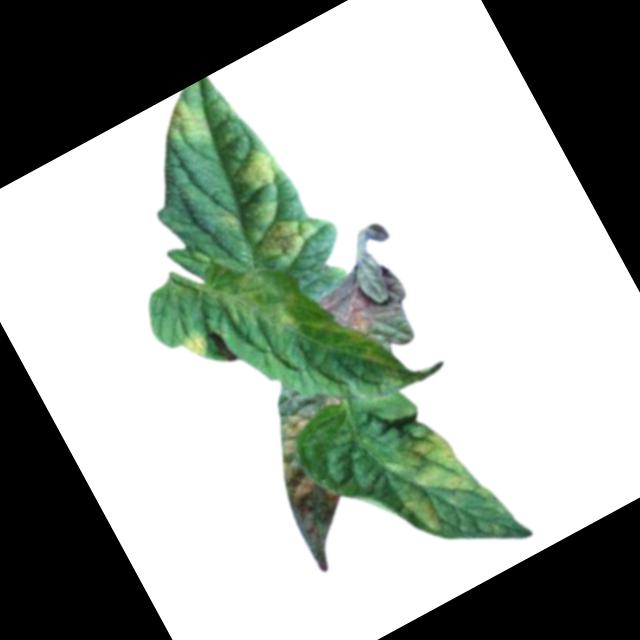Leaf_Mold: (372, 415, 494, 543), (264, 447, 365, 574), (311, 251, 421, 359), (258, 375, 351, 458), (250, 208, 324, 274), (151, 90, 214, 157), (227, 141, 290, 199), (176, 329, 216, 369)
